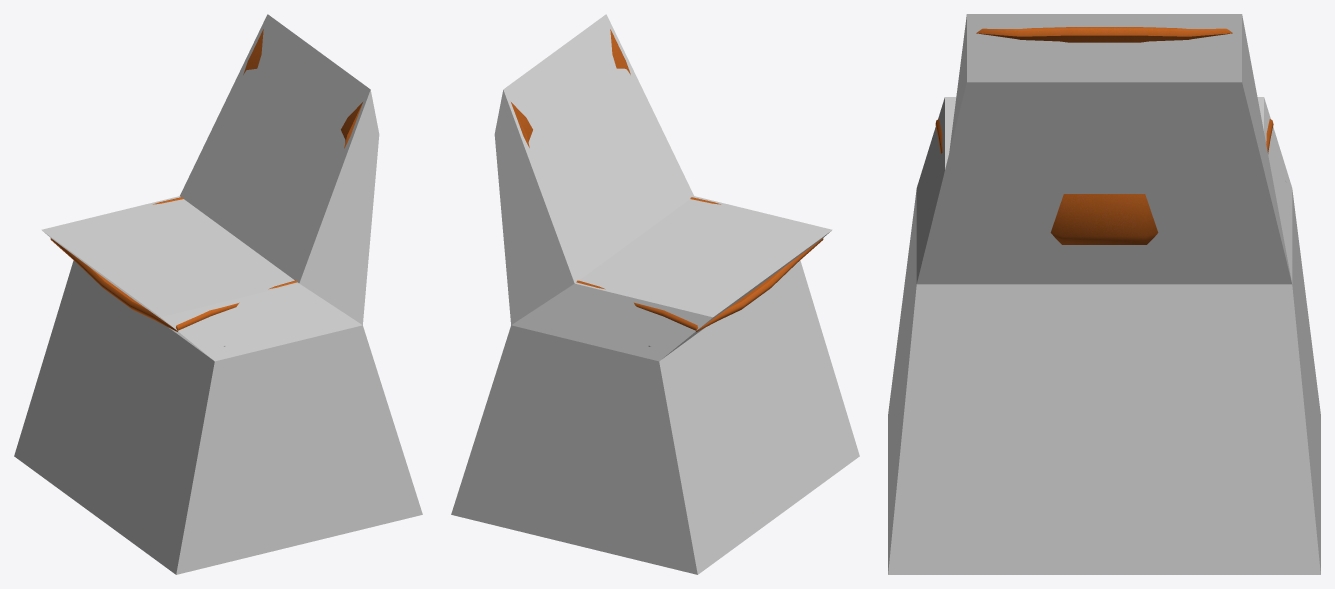
Rendered from Chair(2).glb.
3 views of the same model, side by side, from view 1: azimuth 30°, elevation 25°; view 2: azimuth 150°, elevation 25°; view 3: azimuth 270°, elevation 25° (orthographic). The views are drawn at different scales.
Visible parts, largest first — view 1: Chair-rigid, Chair; view 2: Chair-rigid, Chair; view 3: Chair-rigid, Chair.
Boxes of the visible parts, x1=… form: Chair-rigid: x1=14, y1=14, x2=422, y2=574; Chair: x1=50, y1=29, x2=362, y2=346; Chair-rigid: x1=451, y1=14, x2=859, y2=574; Chair: x1=511, y1=29, x2=823, y2=346; Chair-rigid: x1=888, y1=14, x2=1320, y2=574; Chair: x1=922, y1=27, x2=1286, y2=244.
Size of the model in its own units: 0.4633 by 0.7343 by 0.5273.
3 materials, 1 textured.
